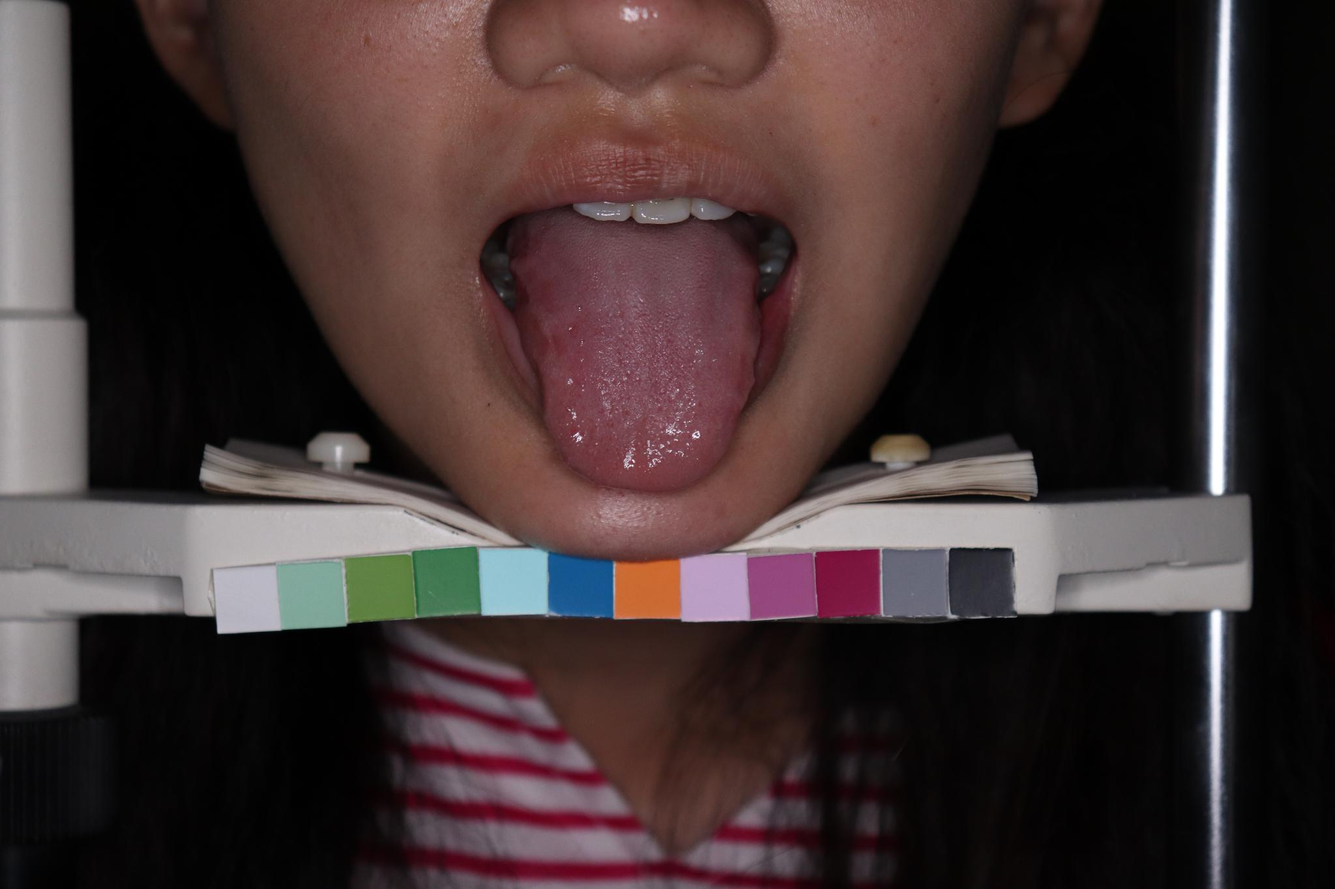baitaishe: (507, 212, 774, 493)
chihenshe: (510, 226, 561, 401), (733, 247, 765, 411)
huataishe: (582, 426, 724, 483)
